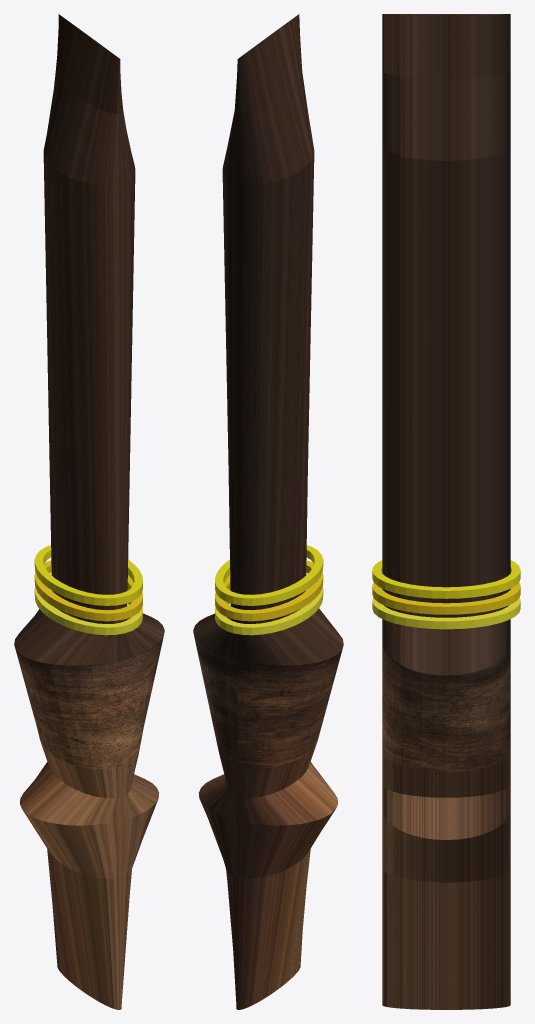
File: Varita.fbx
3 views of the same model, side by side, from view 1: azimuth 30°, elevation 25°; view 2: azimuth 150°, elevation 25°; view 3: azimuth 270°, elevation 25° (orthographic). The views are drawn at different scales.
Visible parts, largest first — view 1: Cilindro, Círculo.002, Círculo.001, Círculo; view 2: Cilindro, Círculo.002, Círculo.001, Círculo; view 3: Cilindro, Círculo.002, Círculo.001, Círculo.
Part boxes in pixels (x1,y1,x2,y2): Cilindro: [14, 14, 164, 1009]; Círculo.002: [34, 545, 142, 605]; Círculo.001: [34, 560, 142, 621]; Círculo: [34, 574, 142, 635]; Cilindro: [193, 14, 343, 1009]; Círculo.002: [215, 545, 323, 605]; Círculo.001: [215, 560, 323, 621]; Círculo: [215, 574, 323, 635]; Cilindro: [382, 14, 510, 1009]; Círculo.002: [372, 560, 520, 598]; Círculo.001: [372, 582, 520, 614]; Círculo: [372, 598, 520, 629].
Size of the model in its own units: 95.34 by 629 by 85.5.
4 materials, 1 textured.
